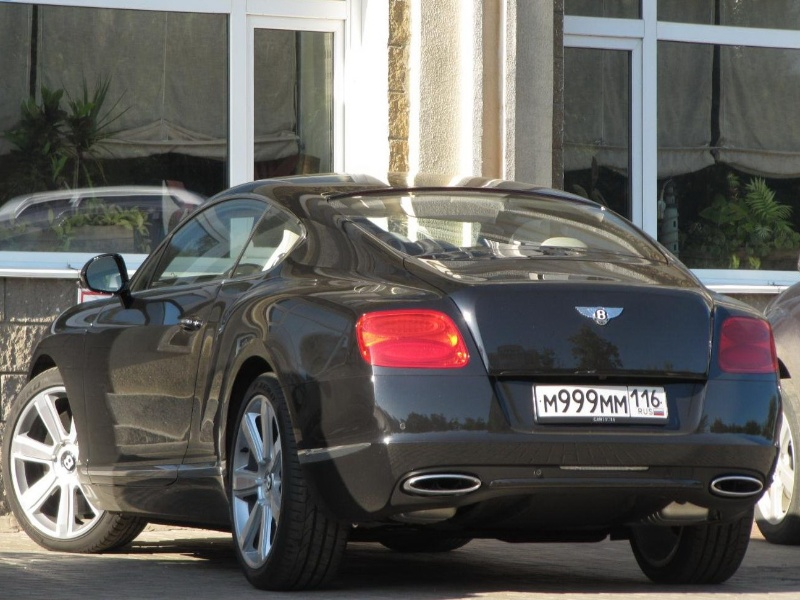car: (1, 174, 779, 590)
plate: (535, 384, 667, 418)
